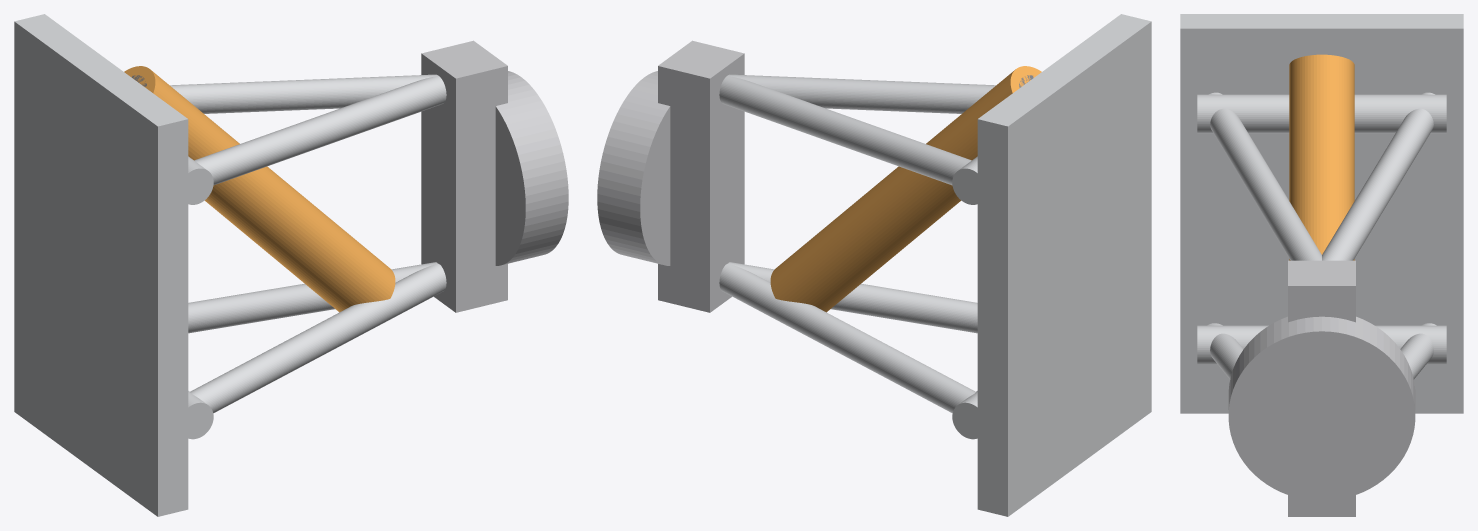
The model's file is rover17_suspension_arm_l.glb.
The picture shows the model from 3 angles, left to right: view 1: azimuth 30°, elevation 25°; view 2: azimuth 150°, elevation 25°; view 3: azimuth 270°, elevation 25°; orthographic projection.
Parts seen in each view (by area): view 1: mount_plate, arm_upright, spring, arm_upper, arm_lower; view 2: mount_plate, arm_upright, spring, arm_upper, arm_lower; view 3: mount_plate, arm_upright, arm_upper, spring, arm_lower.
Part boxes in pixels (bbox=[...]): mount_plate: bbox=[14, 14, 188, 516]; arm_upright: bbox=[421, 40, 568, 312]; spring: bbox=[124, 66, 395, 312]; arm_upper: bbox=[170, 74, 446, 204]; arm_lower: bbox=[188, 262, 446, 439]; mount_plate: bbox=[977, 14, 1151, 516]; arm_upright: bbox=[597, 40, 744, 312]; spring: bbox=[770, 66, 1041, 312]; arm_upper: bbox=[719, 74, 995, 204]; arm_lower: bbox=[719, 262, 977, 439]; mount_plate: bbox=[1180, 14, 1463, 413]; arm_upright: bbox=[1228, 260, 1415, 516]; arm_upper: bbox=[1197, 92, 1446, 260]; spring: bbox=[1289, 54, 1354, 260]; arm_lower: bbox=[1197, 323, 1446, 379].
Bounding box in the file's own units: 0.7 × 0.6 × 0.4.
